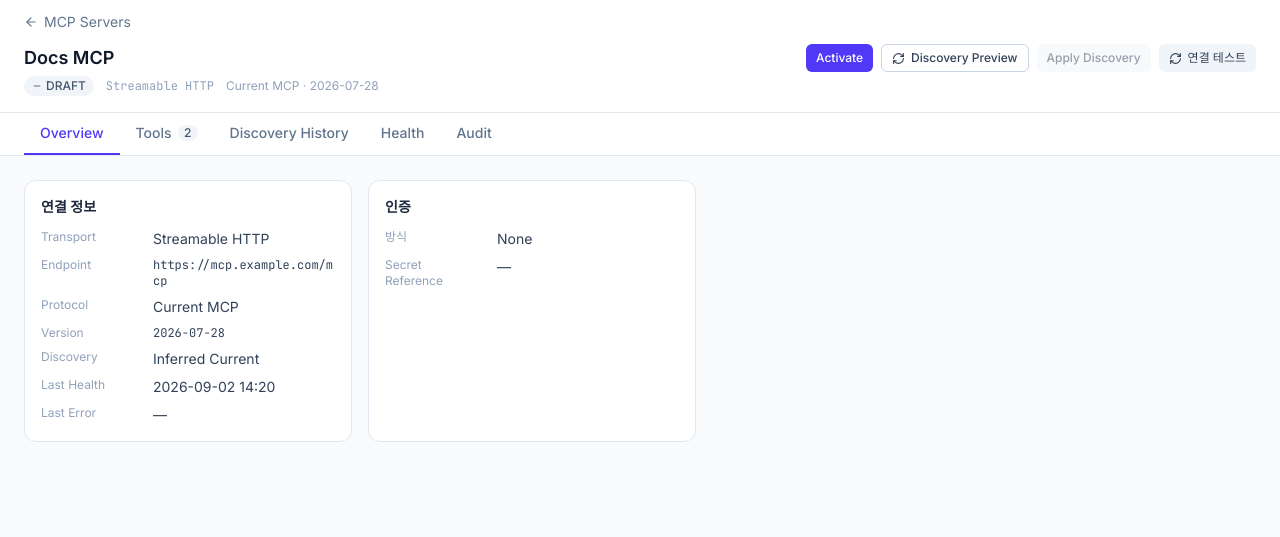
Test: MCPServerDetail — API detail › shows Activate RESOURCE_CONFLICT without unhandled rejection
Expected: the heading "Docs MCP" is shown, [24,47,114,68]
Click the button "Activate" at x=840, y=58, box [806,44,873,72]
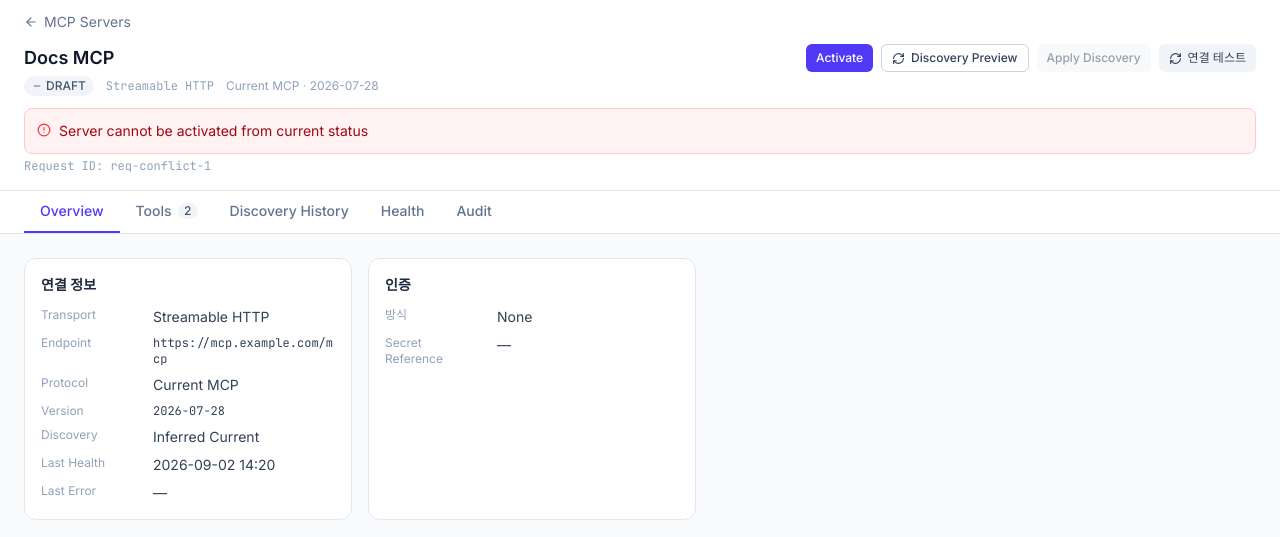
Expected: the text "DRAFT" is shown, [24,76,94,96]
Expected: the text "Server cannot be activated from current status" is shown, [59,121,368,141]
Expected: the text "Request ID: req-conflict-1" is shown, [24,158,211,174]
